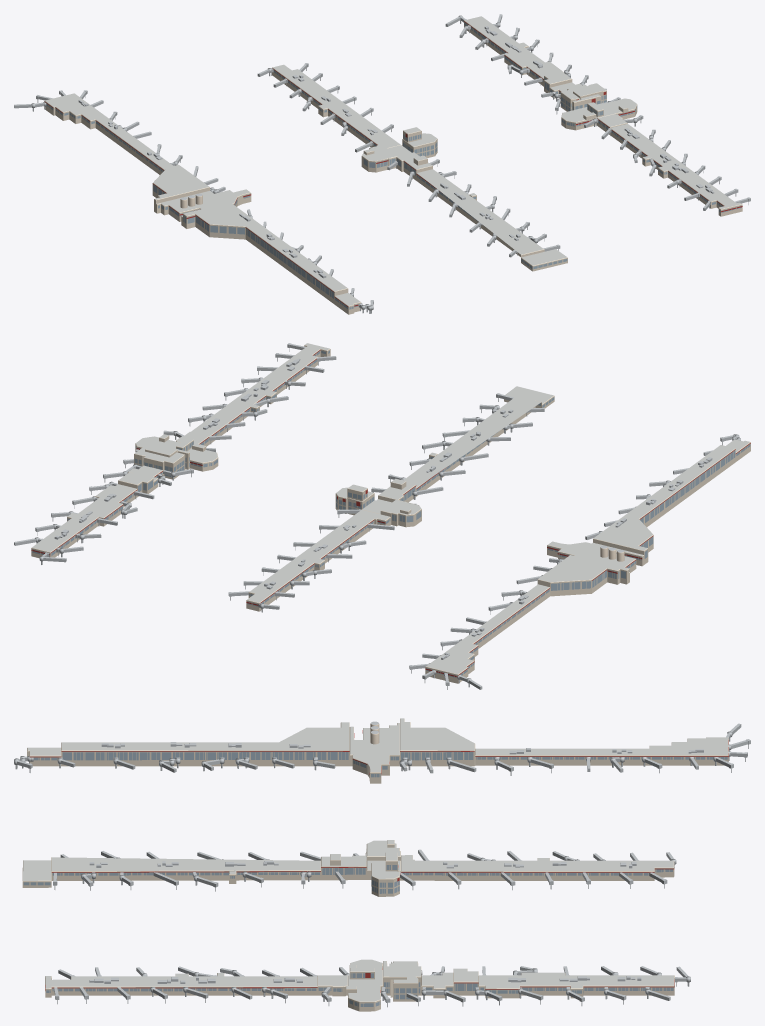
File: atl-hartsfield-jackson-concourses-t-a-b.detail.glb
3 renders of one model, top to bottom at view 1: azimuth 30°, elevation 25°; view 2: azimuth 150°, elevation 25°; view 3: azimuth 270°, elevation 25°, orthographic. The views are drawn at different scales.
Visible parts, largest first — view 1: Hartsfield-Jackson Concourses T, A and B; view 2: Hartsfield-Jackson Concourses T, A and B; view 3: Hartsfield-Jackson Concourses T, A and B.
Boxes of the visible parts, x1,y1,x2,y2 form: Hartsfield-Jackson Concourses T, A and B: (14, 14, 750, 314); Hartsfield-Jackson Concourses T, A and B: (14, 343, 750, 689); Hartsfield-Jackson Concourses T, A and B: (14, 718, 750, 1011).
Bounding box in the file's own units: 739 × 35 × 823.
